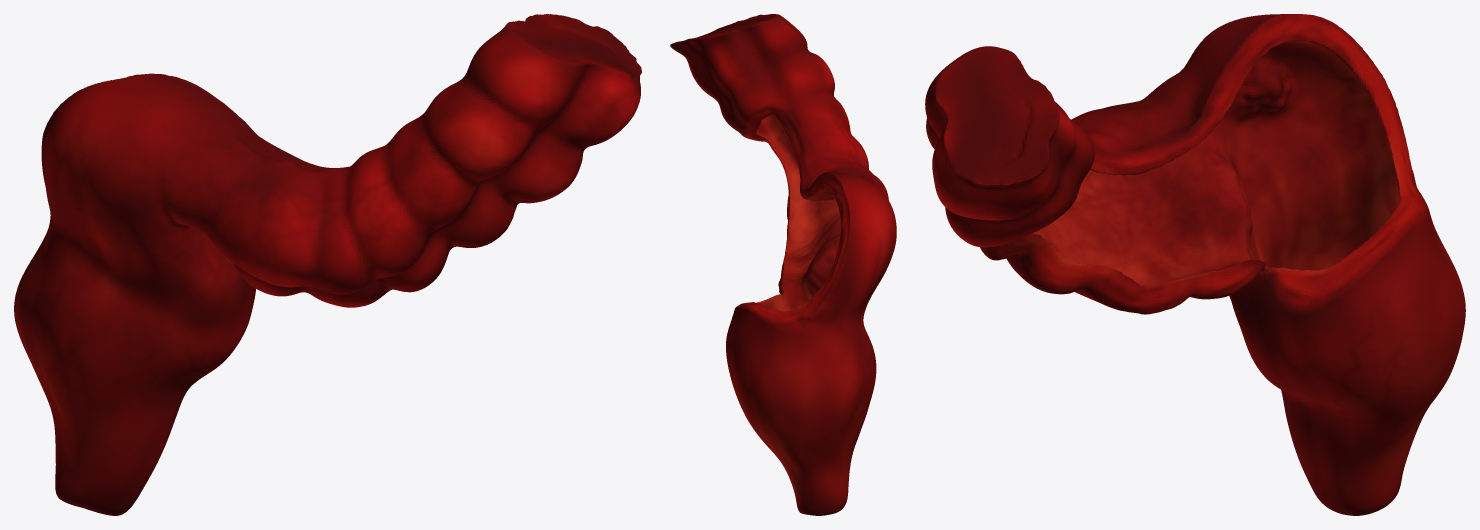
The model's file is stage-2-m-v1.glb.
The picture shows the model from 3 angles, left to right: view 1: azimuth 30°, elevation 25°; view 2: azimuth 150°, elevation 25°; view 3: azimuth 270°, elevation 25°; orthographic projection. The views are drawn at different scales.
Visible parts, largest first — view 1: BOOLEAN COLON HEALTHY; view 2: BOOLEAN COLON HEALTHY; view 3: BOOLEAN COLON HEALTHY.
Boxes of the visible parts, x1,y1,x2,y2 form: BOOLEAN COLON HEALTHY: (14,14,641,515); BOOLEAN COLON HEALTHY: (670,14,896,515); BOOLEAN COLON HEALTHY: (925,14,1465,515).
Size of the model in its own units: 0.3578 by 0.4251 by 0.3558.
Materials: 1 (1 with a texture image).
